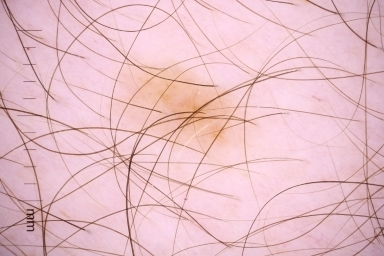nevus: (121, 67, 231, 148)
